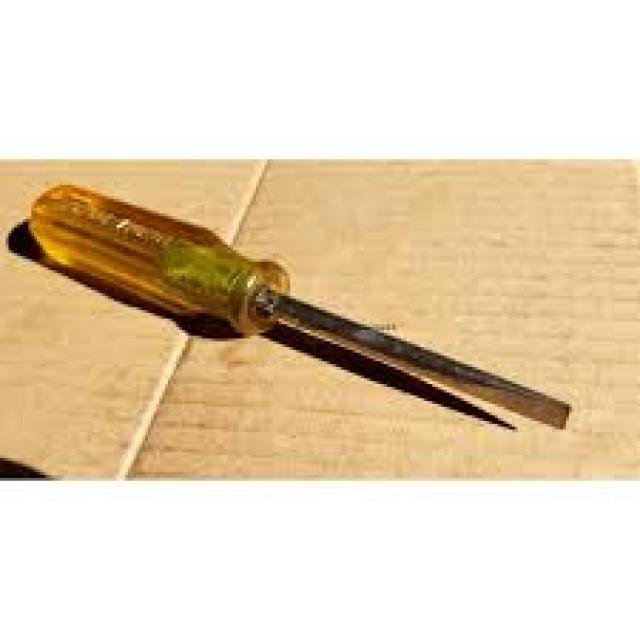screwdriver: (27, 179, 582, 438)
